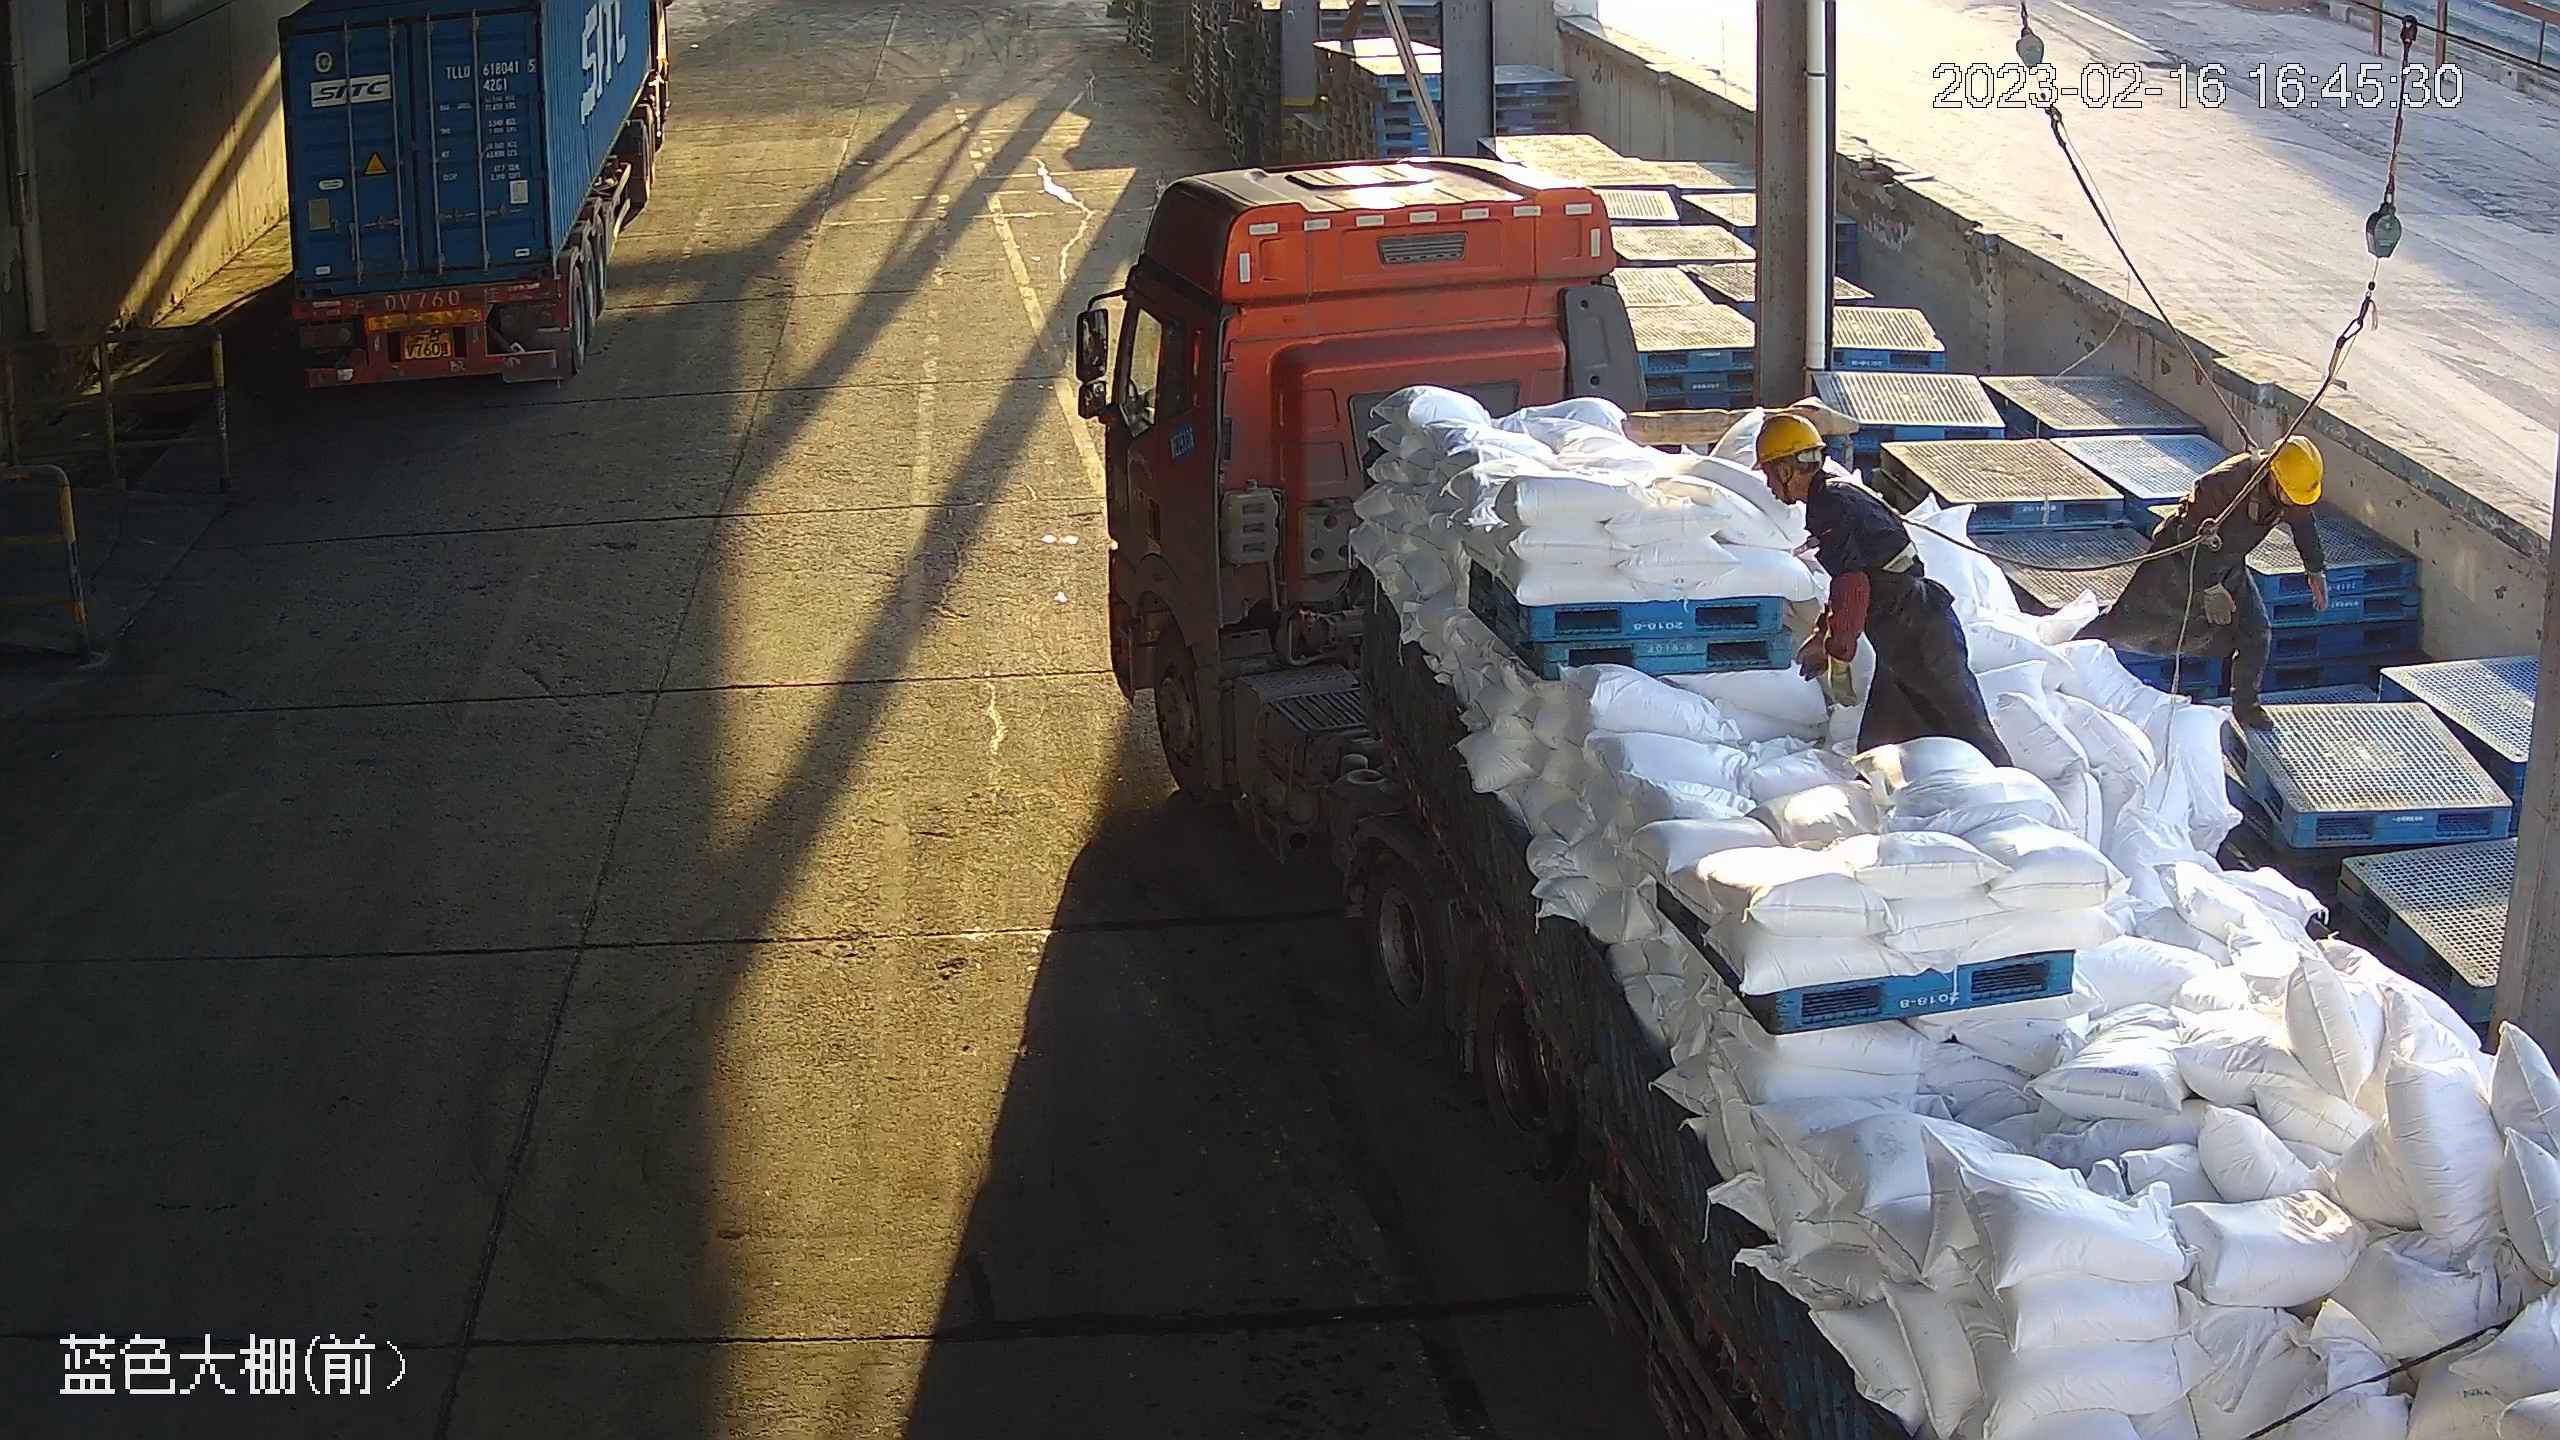belt: (1821, 475, 1924, 574), (2235, 424, 2286, 526)
head: (1748, 413, 1882, 531), (2191, 436, 2330, 537)
helmet: (1748, 412, 1826, 471), (2267, 435, 2323, 504)
people: (1747, 411, 2017, 768), (2072, 435, 2331, 732)
truck: (1072, 155, 2560, 1440), (274, 3, 669, 398)
